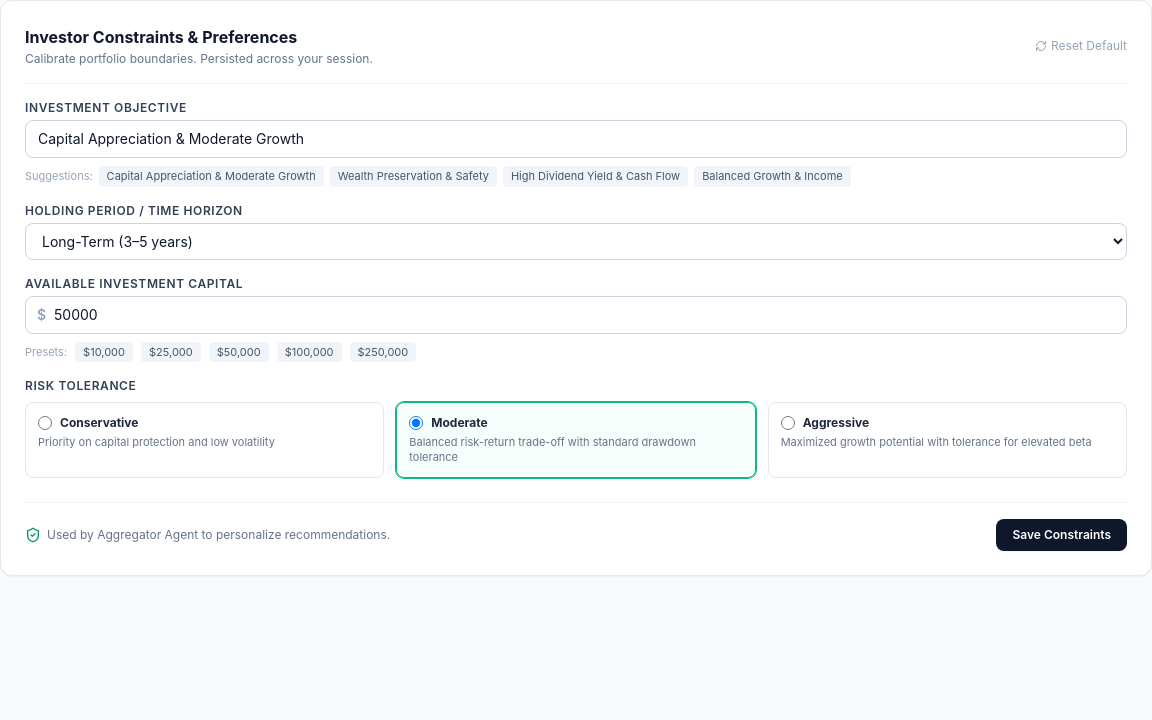
it: Investor Profile Inputs & Session Persistence (Phase 16.5) › validates capital amount to prevent invalid or zero values
The width and height of the screenshot is (1152, 720).
In the number field labelled "Available Investment Capital": (576,314) [25,296,1127,334], type "0"
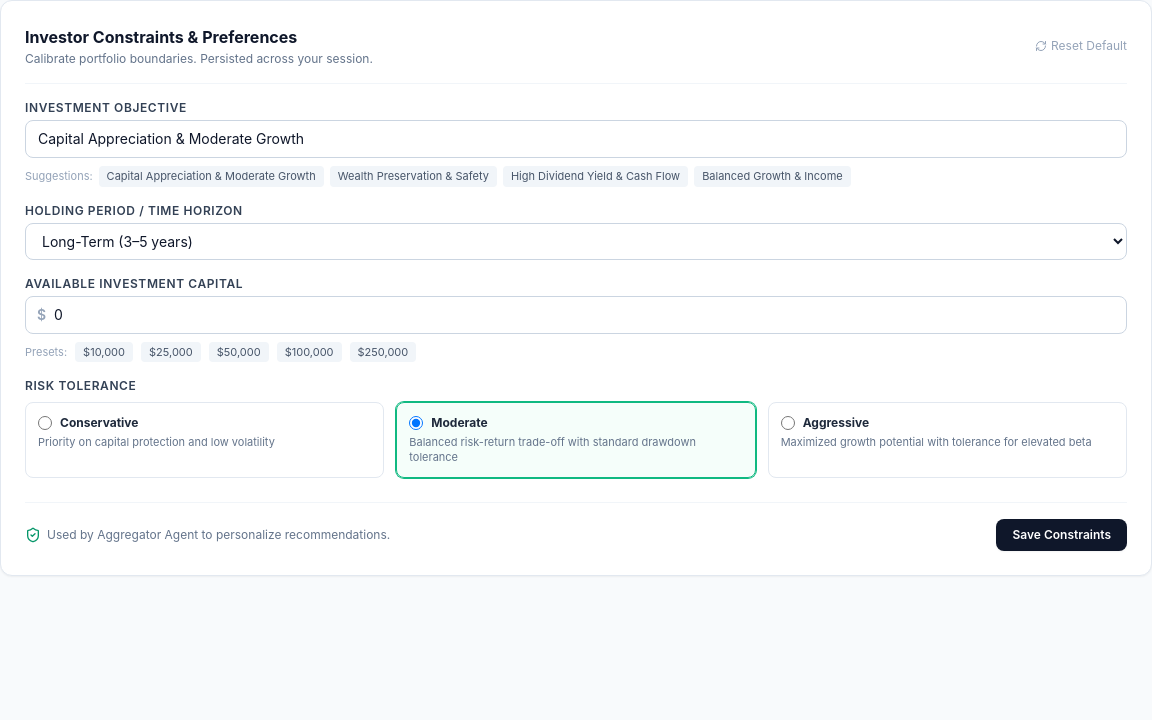
Submit the form with test id "investor-profile-form"
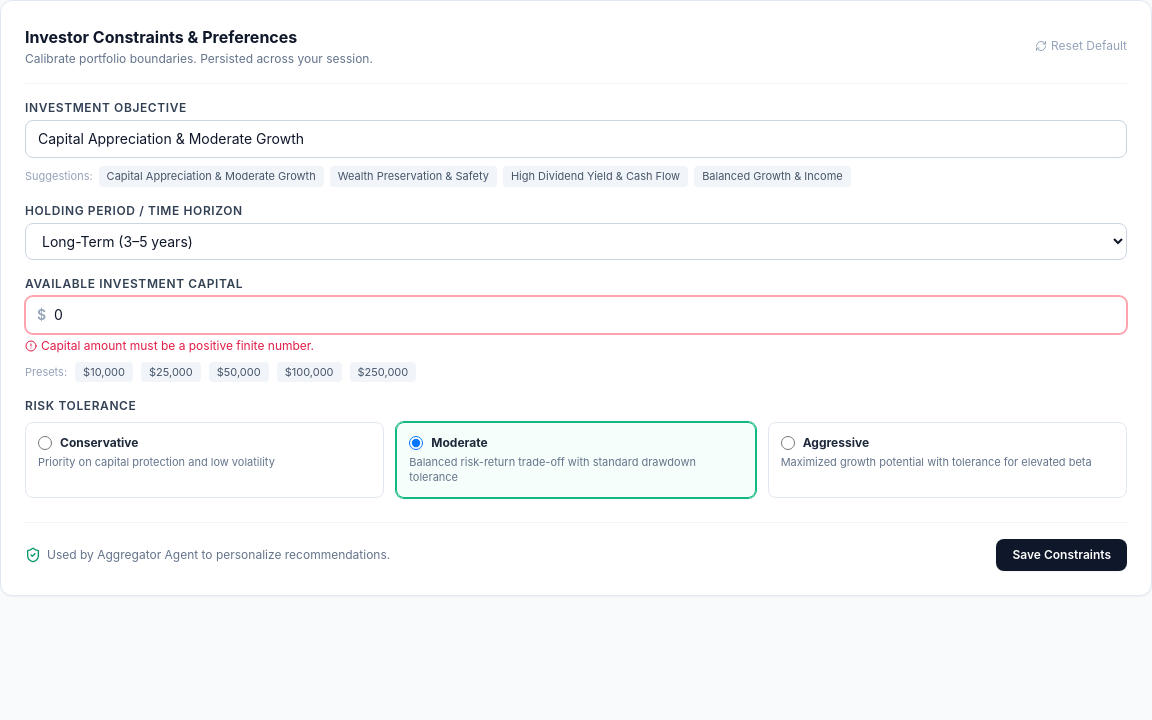
Expected: the text "Capital amount must be a positive finite number." is shown, [25,338,314,352]
